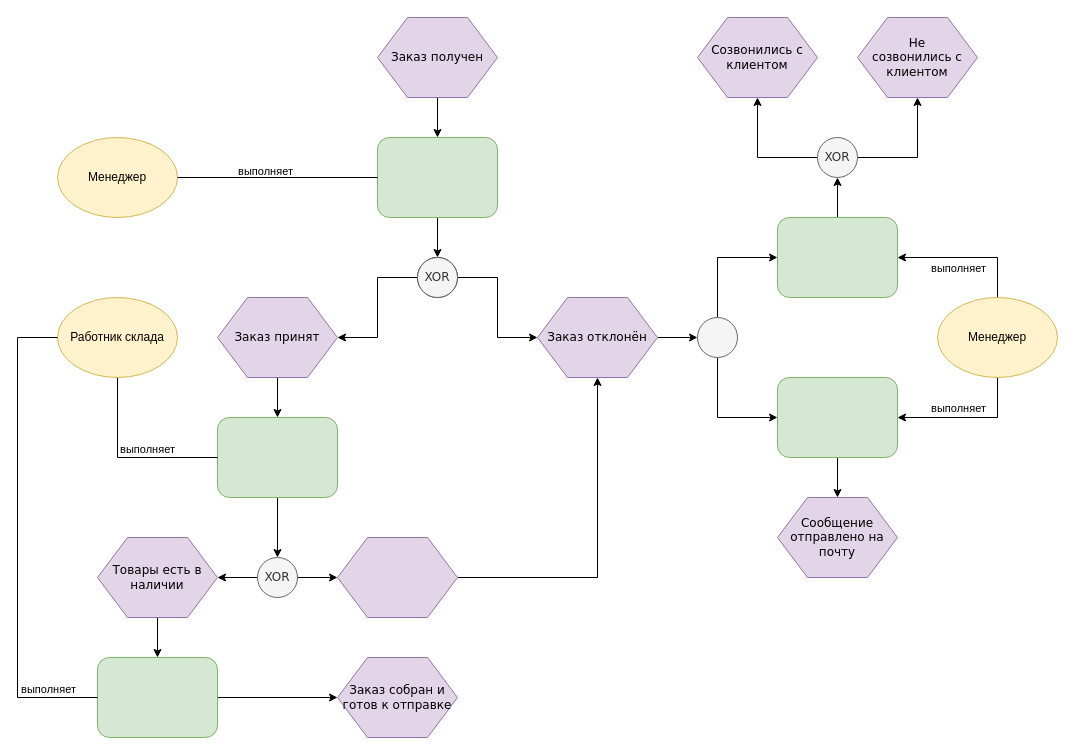
This 1075x755 diagram has some shape labels left out. The centre of each missing label's shape, as x and y in pixels:
"AND" goes at point 717,337.
"Отправить сообщение клиенту на почту" goes at point 837,417.
"Проанализировать заказ" goes at point 437,177.
"Проверка товаров на наличие в складе" goes at point 277,457.
"Собираем заказ и упаковываем" goes at point 157,697.
"Созвониться с клиентом" goes at point 837,257.
"Товары отсутсвуют" goes at point 397,577.
